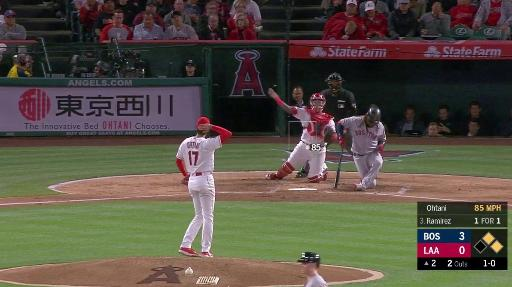pitcher: (176, 117, 235, 257)
